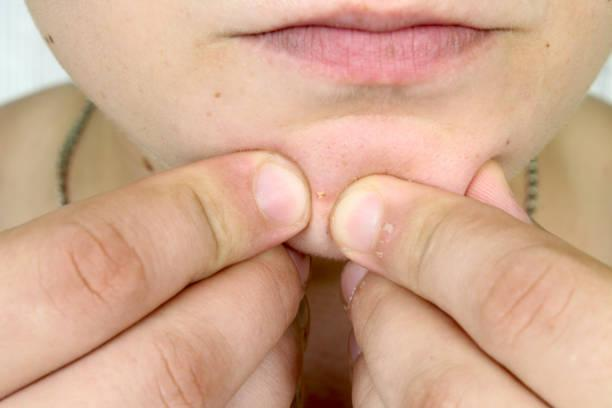Dry-Skin: (273, 83, 439, 178), (124, 19, 199, 121), (201, 74, 260, 164), (521, 36, 571, 136), (318, 183, 377, 247), (66, 20, 111, 86)
